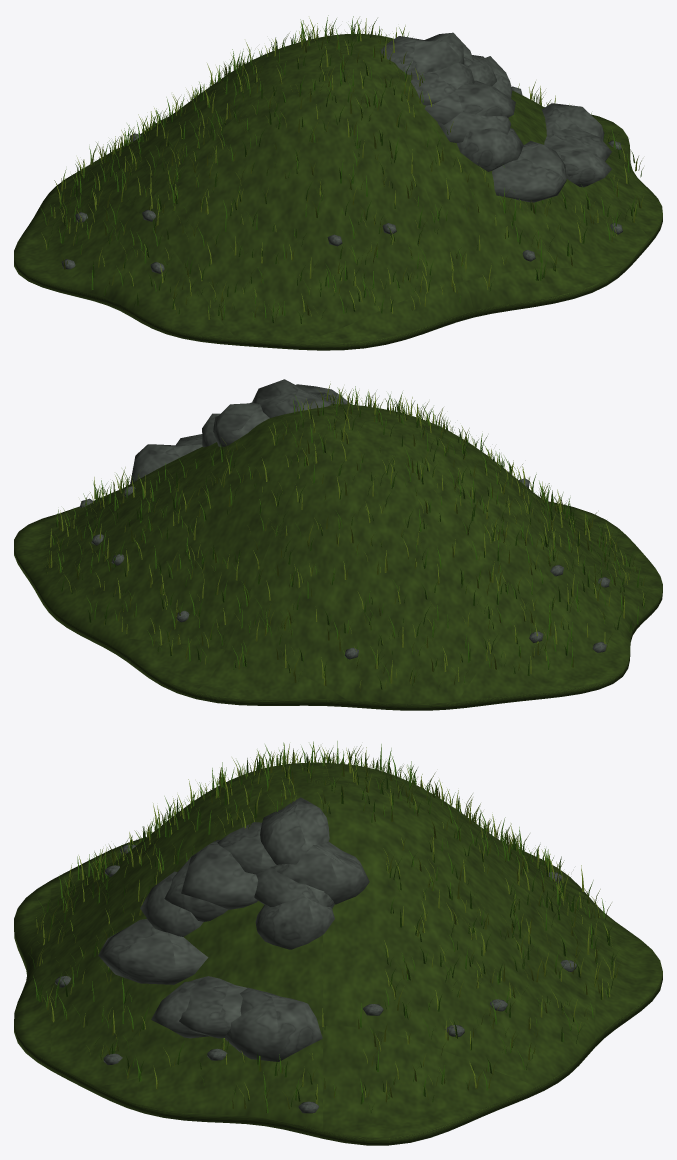
The model's file is 07_small_hill.glb.
3 views of the same model, one above another, from view 1: azimuth 30°, elevation 25°; view 2: azimuth 150°, elevation 25°; view 3: azimuth 270°, elevation 25° (orthographic). The views are drawn at different scales.
Parts seen in each view (by area): view 1: Hill | closed rolling terrain, 07_small_hill | Hill | weathered slate, Hill | hillside grasses; view 2: Hill | closed rolling terrain, Hill | hillside grasses, 07_small_hill | Hill | weathered slate; view 3: Hill | closed rolling terrain, 07_small_hill | Hill | weathered slate, Hill | hillside grasses.
Boxes of the visible parts, x1,y1,x2,y2 form: Hill | closed rolling terrain: [14, 34, 662, 350]; 07_small_hill | Hill | weathered slate: [61, 32, 622, 273]; Hill | hillside grasses: [41, 15, 643, 323]; Hill | closed rolling terrain: [14, 404, 662, 710]; Hill | hillside grasses: [45, 383, 646, 691]; 07_small_hill | Hill | weathered slate: [79, 379, 609, 659]; Hill | closed rolling terrain: [14, 762, 662, 1145]; 07_small_hill | Hill | weathered slate: [55, 797, 576, 1113]; Hill | hillside grasses: [30, 741, 621, 1113].
Bounding box in the file's own units: 8.64 × 2.69 × 7.15.
4 materials, 4 textured.
